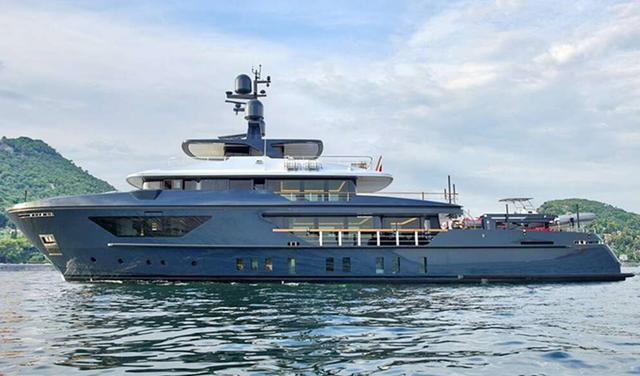yacht: (4, 61, 627, 281)
